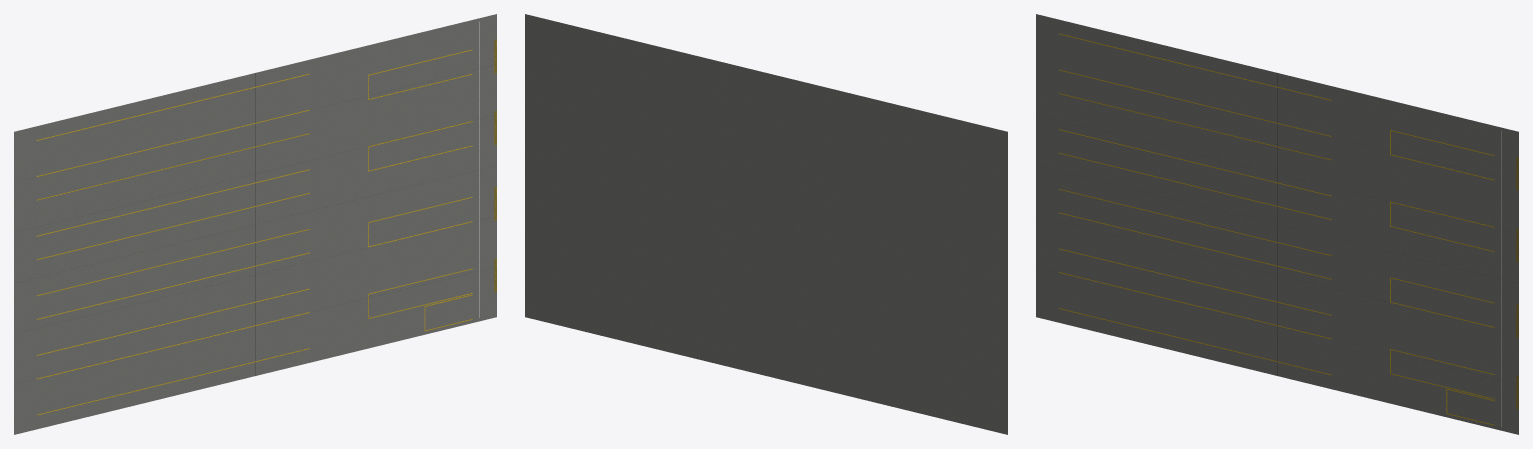
File: floor.gltf
3 views of the same model, side by side, from view 1: azimuth 30°, elevation 25°; view 2: azimuth 150°, elevation 25°; view 3: azimuth 330°, elevation 25° (orthographic).
Parts seen in each view (by area): view 1: floor; view 2: floor; view 3: floor.
Boxes of the visible parts, x1=… form: floor: x1=14, y1=14, x2=496, y2=434; floor: x1=525, y1=14, x2=1007, y2=434; floor: x1=1036, y1=14, x2=1518, y2=434.
Bounding box in the file's own units: 60 × 36 × 0.003.
5 materials, 4 textured.
